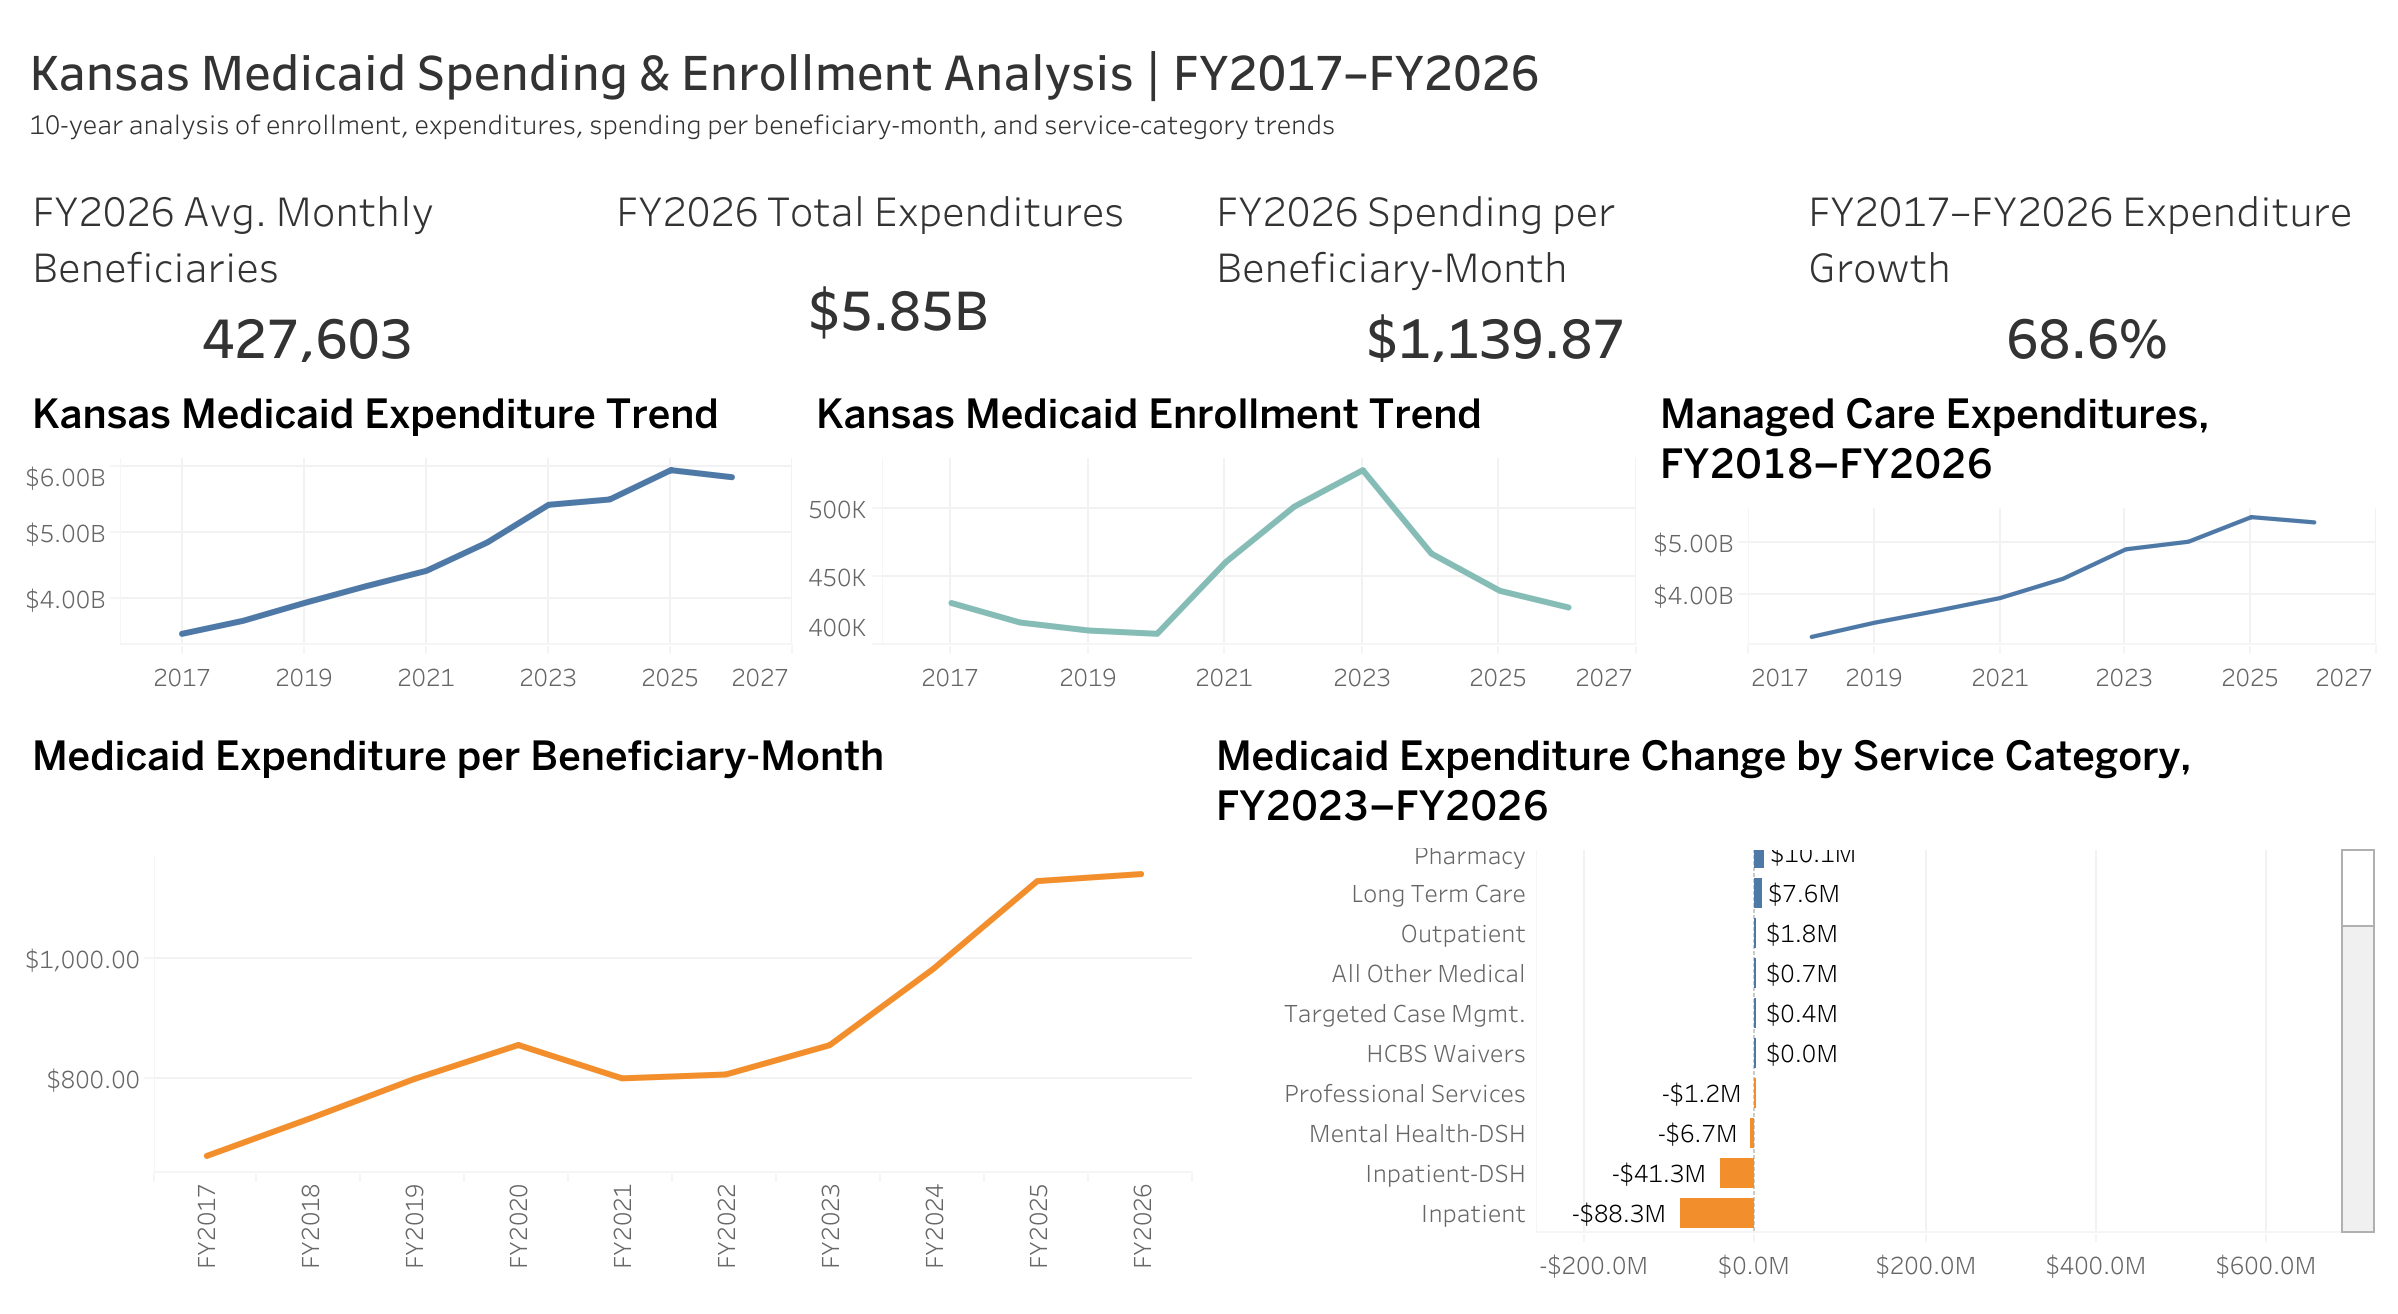

The page's visual inventory and layout, read from the dashboard file:
{"tool":"tableau","page":{"name":"Kansas Medicaid Spending & Enrollment Analysis | FY2017–FY2026","canvas":[1000,1000],"units":"permille","ordinal":0},"visuals":[{"type":"title","box":[6.7,10.2,986.7,93.5]},{"type":"worksheet","title":"FY2026 Avg. Monthly Beneficiaries","mark":"Text","box":[6.7,103.7,243.3,162.4]},{"type":"worksheet","title":"FY2026 Total Expenditures","mark":"Text","box":[250,103.7,250,162.4]},{"type":"worksheet","title":"FY2026 Spending per Beneficiary-Month","mark":"Text","box":[500,103.7,246.6,162.4]},{"type":"worksheet","title":"FY2017–FY2026 Expenditure Growth","mark":"Text","box":[746.6,103.7,246.7,162.4]},{"type":"worksheet","title":"Expenditure Trend.","mark":"Line","rows":["total_expenditures"],"cols":["fiscal_year"],"box":[6.7,266.1,326.7,266.5]},{"type":"worksheet","title":"Enrollment Trend.","mark":"Line","rows":["avg_monthly_beneficiaries"],"cols":["fiscal_year"],"box":[333.3,266.1,351.6,266.5]},{"type":"worksheet","title":"Managed Care Trend","mark":"Line","rows":["annual_expenditures"],"cols":["fiscal_year"],"box":[685,266.1,308.4,266.5]},{"type":"worksheet","title":"Spending per Beneficiary-Month.","mark":"Line","rows":["expenditure_per_beneficiary_month"],"cols":["Calculation_4588580390174720"],"box":[6.7,532.6,493.3,457.1]},{"type":"worksheet","title":"Medicaid Expenditure Change by Service Category, FY2023–FY2026","mark":"Automatic","rows":["Calculation_6255166800392192"],"cols":["Calculation_4588580394201091"],"box":[500,532.6,493.3,457.1]}]}

Visuals, with their boxes on the dashboard's canvas, which has no fixed pixel size, in thousandths of its width and height (x1, y1, x2, y2). These are canvas units, not pixel positions in the 2398x1314 screenshot, which may show the page scaled, cropped or inside an application window:
title: (x1=7, y1=10, x2=993, y2=104)
"FY2026 Avg. Monthly Beneficiaries" worksheet (Text marks): (x1=7, y1=104, x2=250, y2=266)
"FY2026 Total Expenditures" worksheet (Text marks): (x1=250, y1=104, x2=500, y2=266)
"FY2026 Spending per Beneficiary-Month" worksheet (Text marks): (x1=500, y1=104, x2=747, y2=266)
"FY2017–FY2026 Expenditure Growth" worksheet (Text marks): (x1=747, y1=104, x2=993, y2=266)
"Expenditure Trend." worksheet (Line marks): (x1=7, y1=266, x2=333, y2=533)
"Enrollment Trend." worksheet (Line marks): (x1=333, y1=266, x2=685, y2=533)
"Managed Care Trend" worksheet (Line marks): (x1=685, y1=266, x2=993, y2=533)
"Spending per Beneficiary-Month." worksheet (Line marks): (x1=7, y1=533, x2=500, y2=990)
"Medicaid Expenditure Change by Service Category, FY2023–FY2026" worksheet: (x1=500, y1=533, x2=993, y2=990)
